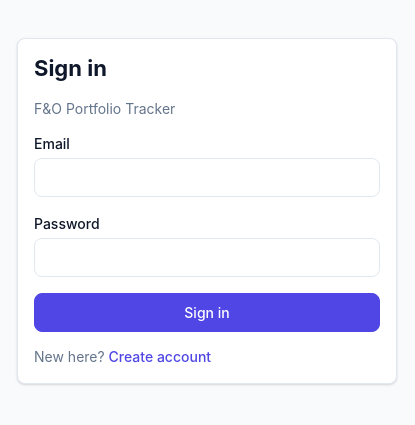
Test: App routing and login › validates fields inline without calling the backend
Step 1. Type "nope" into the field labelled "Email" → coordinates (207, 178), box [34,158,380,197]
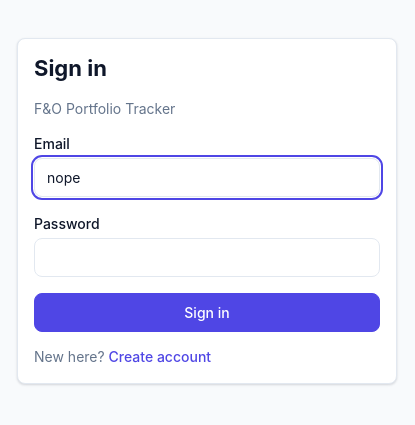
Step 2. Type "short" into the password field labelled "Password" → coordinates (207, 258), box [34,238,380,277]
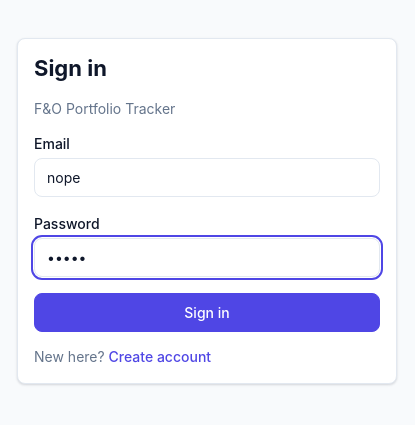
Step 3. Click the button "Sign in" → coordinates (207, 313), box [34,293,380,332]
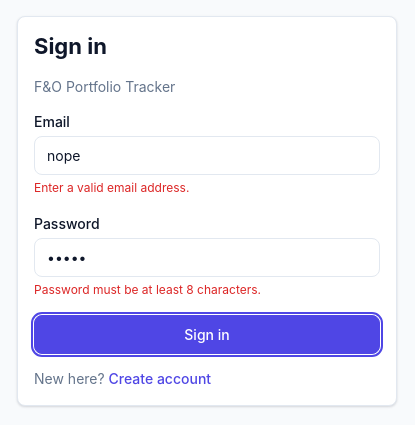
Check: the text "Enter a valid email address." is shown, box [34,180,189,195]
Check: the text "Password must be at least 8 characters." is shown, box [34,282,261,297]
